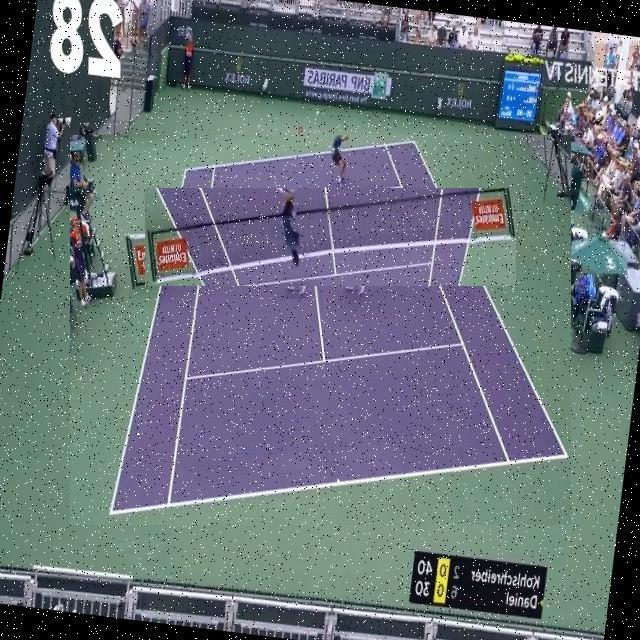court: (70, 135, 571, 525)
net: (145, 188, 516, 286)
player: (274, 204, 310, 299)
